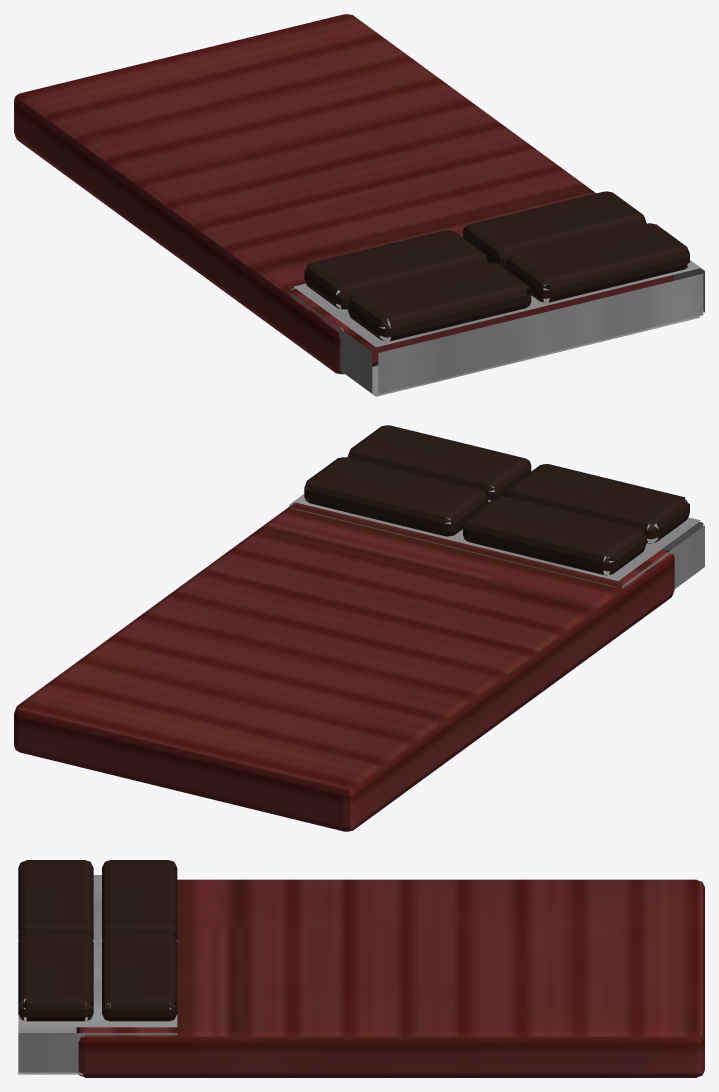
File: P37_ChocolateBar.glb
The picture shows the model from 3 angles, top to bottom: view 1: azimuth 30°, elevation 25°; view 2: azimuth 150°, elevation 25°; view 3: azimuth 270°, elevation 25°; orthographic projection. The views are drawn at different scales.
Visible parts, largest first — view 1: P37_ChocolateBar; view 2: P37_ChocolateBar; view 3: P37_ChocolateBar.
Boxes of the visible parts, x1,y1,x2,y2 form: P37_ChocolateBar: (14, 14, 704, 396); P37_ChocolateBar: (14, 425, 704, 831); P37_ChocolateBar: (18, 860, 704, 1077).
Bounding box in the file's own units: 0.0818 × 0.0173 × 0.15.
Materials: 3 (3 with a texture image).
